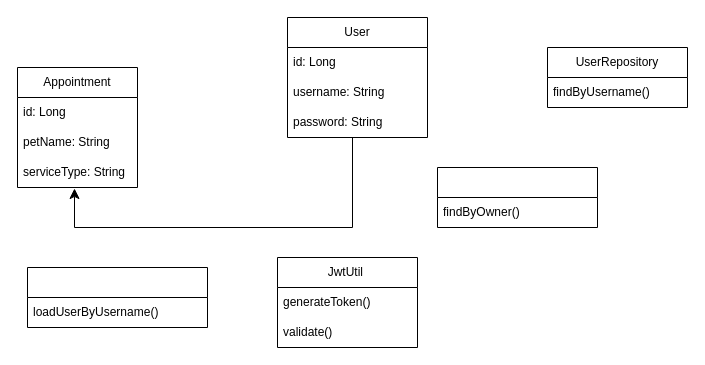
This 705x365 diagram has some shape labels left out. Each missing label, with the box of its shape:
AppointmentRepository: (436, 166, 598, 228)
CustomUserDetailsService: (26, 266, 208, 328)
